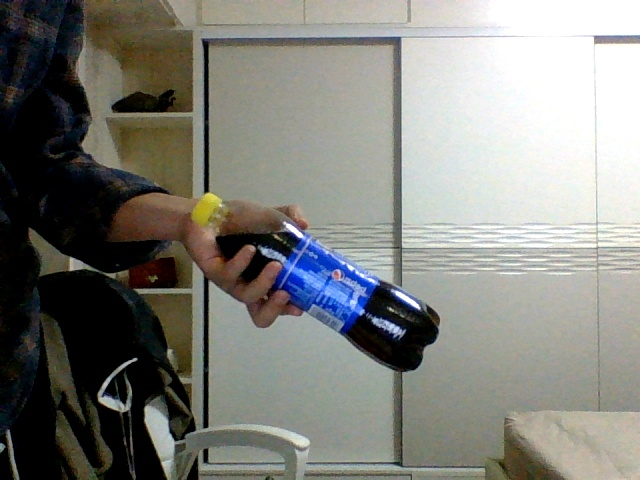Cola: (191, 192, 441, 371)
